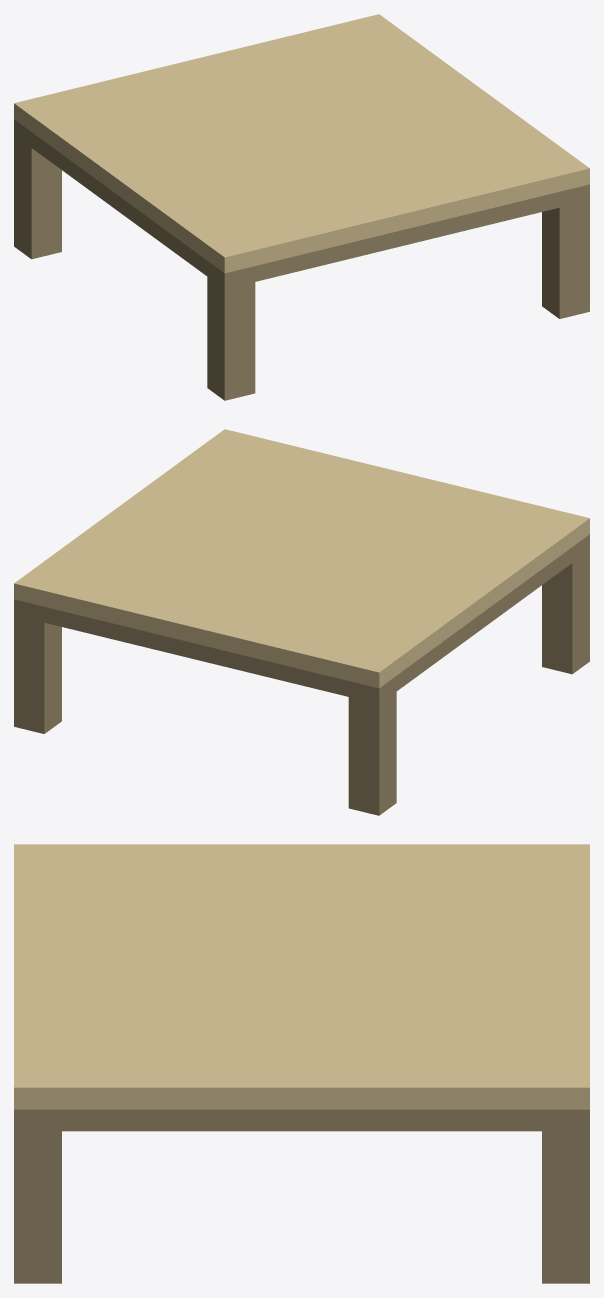
File: mesa_comedor_pino_01.glb
3 renders of one model, top to bottom at view 1: azimuth 30°, elevation 25°; view 2: azimuth 150°, elevation 25°; view 3: azimuth 270°, elevation 25°, orthographic. The views are drawn at different scales.
Parts seen in each view (by area): view 1: mesa_comedor_pino; view 2: mesa_comedor_pino; view 3: mesa_comedor_pino.
Boxes of the visible parts, box(x1,y1,x2,y2) form: mesa_comedor_pino: box(14, 14, 589, 400); mesa_comedor_pino: box(14, 429, 589, 815); mesa_comedor_pino: box(14, 844, 589, 1283).
Size of the model in its own units: 2 by 0.75 by 2.
